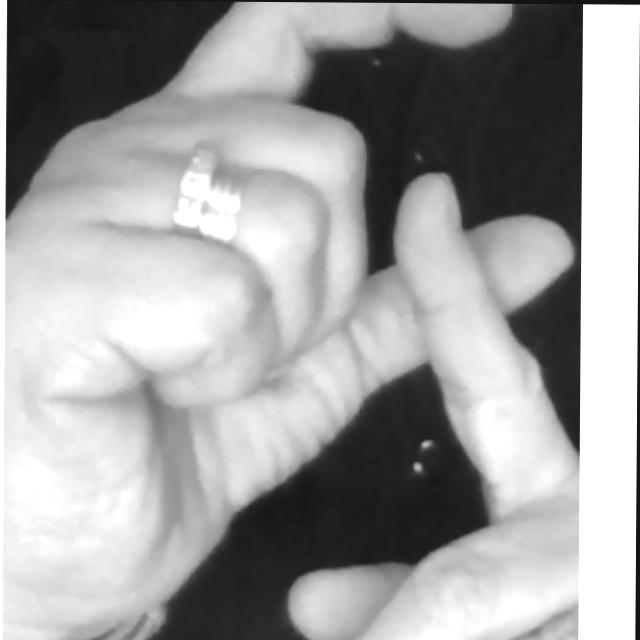C_: (6, 0, 585, 640)
